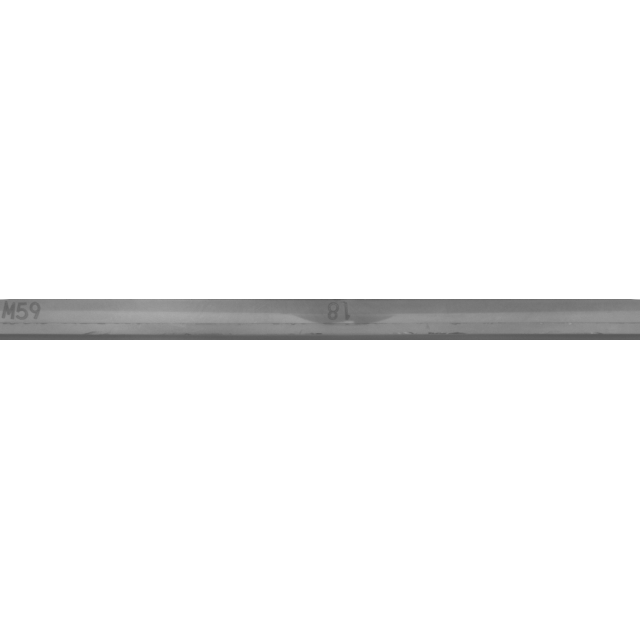mohao: (0, 270, 118, 370)
xuehao: (240, 270, 440, 370)
